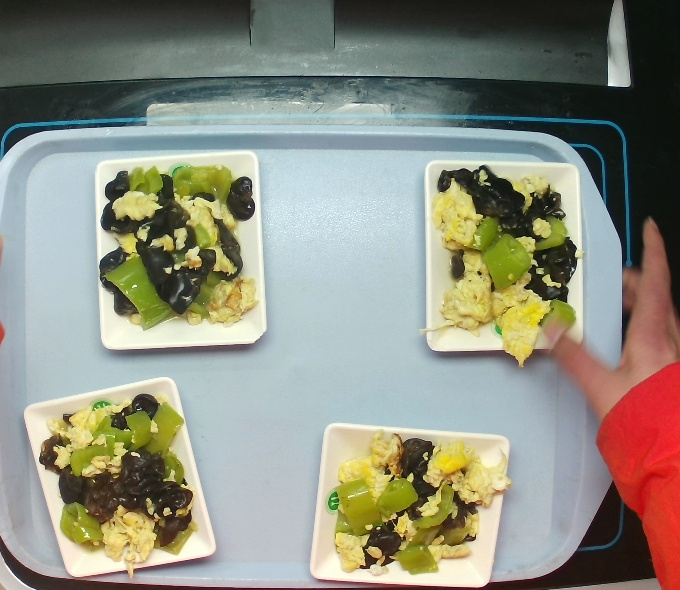wcq-MuErDanHuang: (430, 160, 577, 366), (92, 165, 269, 333), (38, 386, 196, 574), (326, 431, 498, 580)
